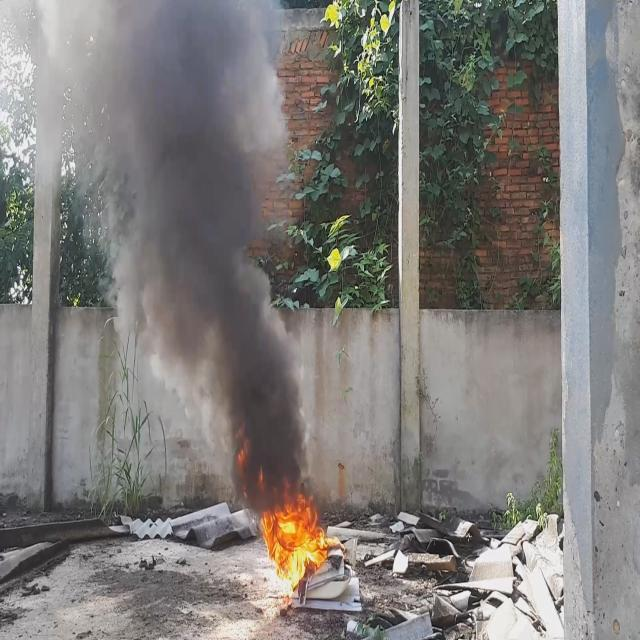Fire: (258, 492, 330, 590)
Smoke: (0, 0, 312, 516)
